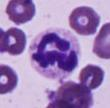N: (29, 28, 80, 78)
